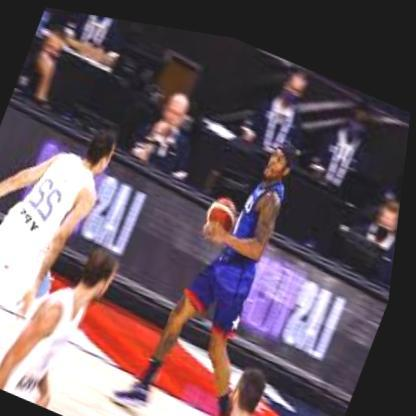basketball: (205, 185, 245, 234)
